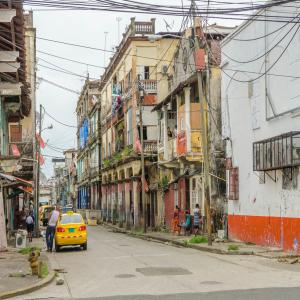Vehicle-registration-plate: (69, 229, 75, 234)
